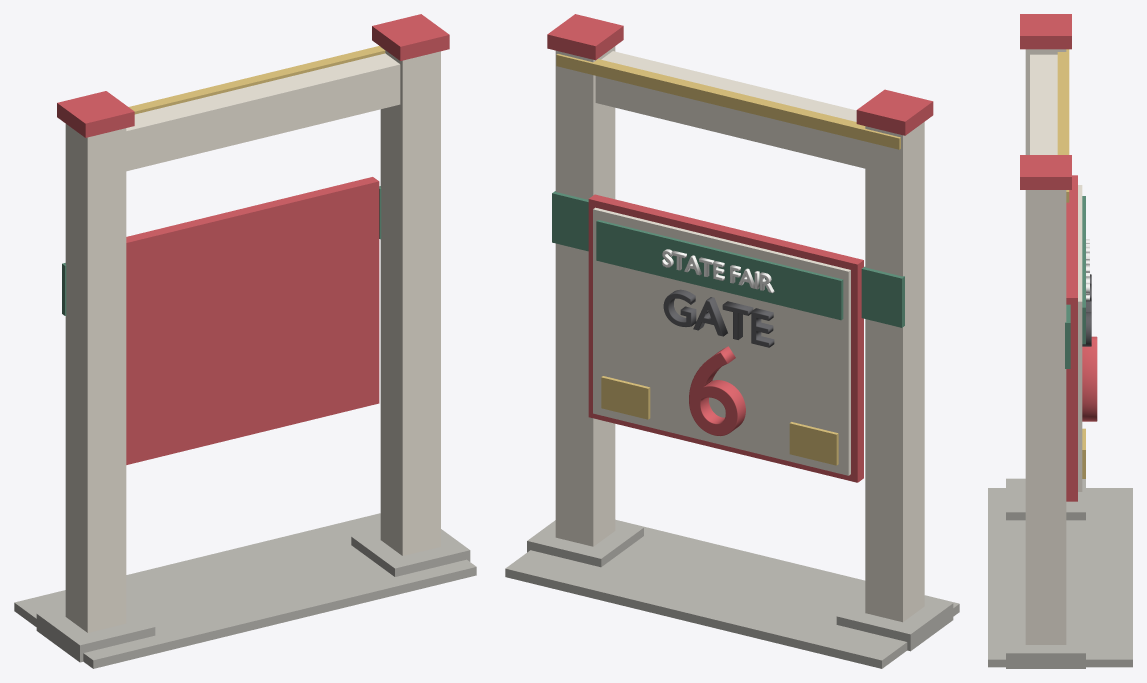
The model's file is state-fair-gate-06.glb.
The picture shows the model from 3 angles, left to right: view 1: azimuth 30°, elevation 25°; view 2: azimuth 150°, elevation 25°; view 3: azimuth 270°, elevation 25°; orthographic projection. The views are drawn at different scales.
Parts seen in each view (by area): view 1: SFG_SignBack, SFG_PostL, SFG_PostR, SFG_Pad, SFG_HeaderBeam, SFG_FootingL, SFG_FootingR, SFG_PostCapL, SFG_PostCapR, SFG_HeaderAccent; view 2: SFG_SignFace, SFG_PostL, SFG_Pad, SFG_PostR, SFG_HeaderBeam, SFG_Ribbon, SFG_SignBack, SFG_HeaderAccent, SFG_GateNumber, SFG_FootingL, SFG_GateLabel, SFG_FootingR (+7 smaller); view 3: SFG_PostR, SFG_Pad, SFG_SignBack, SFG_FootingR, SFG_HeaderBeam, SFG_PostCapL, SFG_PostCapR, SFG_SignFace, SFG_HeaderAccent, SFG_FootingL, SFG_GateNumber, SFG_PostL (+4 smaller).
Part boxes in pixels (x1,y1,x2,y2): SFG_SignBack: (126, 177, 379, 464); SFG_PostL: (65, 124, 126, 632); SFG_PostR: (380, 47, 440, 555); SFG_Pad: (14, 513, 476, 668); SFG_HeaderBeam: (126, 53, 400, 171); SFG_FootingL: (36, 606, 155, 662); SFG_FootingR: (351, 529, 470, 576); SFG_PostCapL: (57, 91, 134, 137); SFG_PostCapR: (372, 14, 449, 60); SFG_HeaderAccent: (129, 46, 385, 114); SFG_SignFace: (593, 207, 850, 475); SFG_PostL: (865, 122, 924, 622); SFG_Pad: (505, 519, 959, 668); SFG_PostR: (555, 46, 615, 546); SFG_HeaderBeam: (595, 51, 865, 168); SFG_Ribbon: (596, 220, 843, 320); SFG_SignBack: (588, 194, 863, 482); SFG_HeaderAccent: (556, 54, 900, 149); SFG_GateNumber: (689, 346, 745, 436); SFG_FootingL: (836, 596, 953, 651); SFG_GateLabel: (663, 289, 774, 347); SFG_FootingR: (527, 520, 643, 567); SFG_PostR: (1025, 190, 1066, 644); SFG_Pad: (988, 488, 1132, 667); SFG_SignBack: (1066, 175, 1077, 501); SFG_FootingR: (1006, 619, 1085, 668); SFG_HeaderBeam: (1030, 54, 1057, 154); SFG_PostCapL: (1020, 14, 1071, 49); SFG_PostCapR: (1020, 155, 1071, 189); SFG_SignFace: (1078, 185, 1082, 491); SFG_HeaderAccent: (1057, 49, 1069, 202); SFG_FootingL: (1006, 478, 1085, 520); SFG_GateNumber: (1082, 336, 1097, 421); SFG_PostL: (1025, 49, 1066, 154).
Size of the model in its own units: 2.85 by 3.7 by 1.
